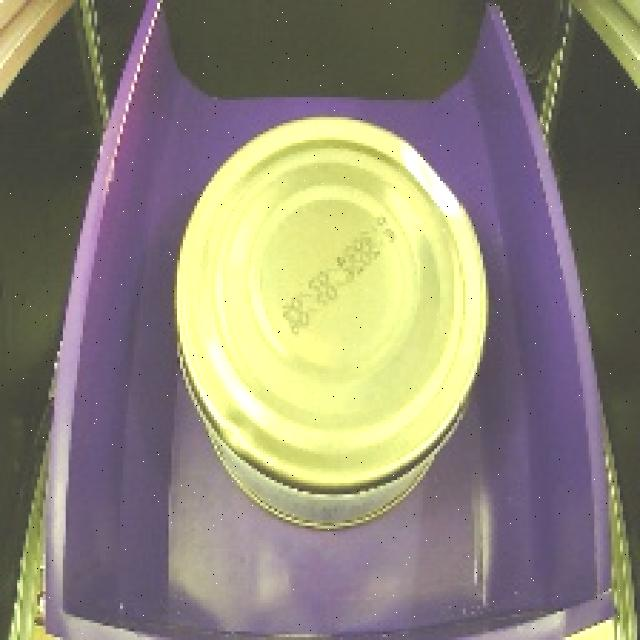metal: (167, 99, 510, 546)
